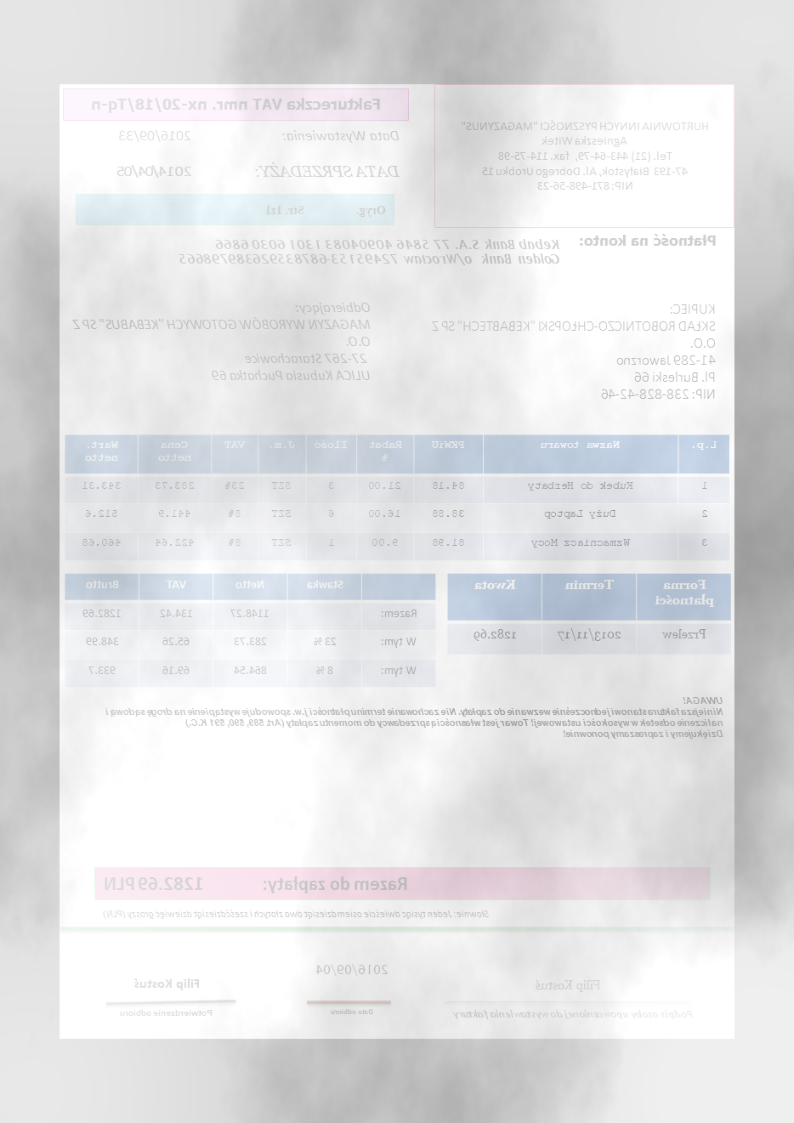Table: (63, 431, 731, 564), (63, 571, 438, 690), (447, 572, 733, 656)
TextBox: (102, 691, 727, 741), (429, 298, 719, 405), (68, 298, 373, 386), (459, 118, 714, 195), (176, 236, 564, 269), (101, 870, 411, 896), (102, 904, 494, 921), (89, 95, 386, 115), (448, 1007, 696, 1023), (254, 159, 403, 182), (578, 230, 723, 251), (264, 199, 391, 220), (281, 124, 405, 145), (114, 160, 196, 181), (312, 957, 391, 978), (128, 973, 204, 991), (534, 975, 605, 994), (116, 128, 195, 144), (118, 1006, 215, 1019), (326, 1004, 379, 1018)
